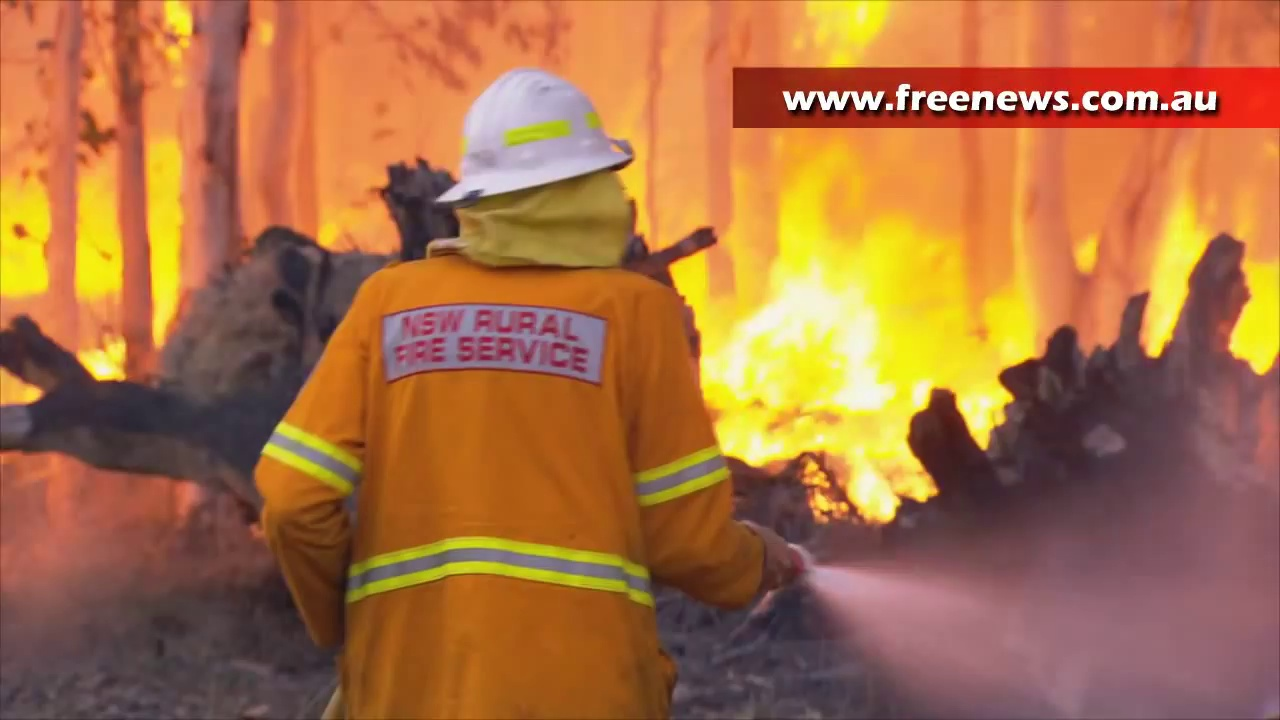fire: (709, 236, 911, 465)
